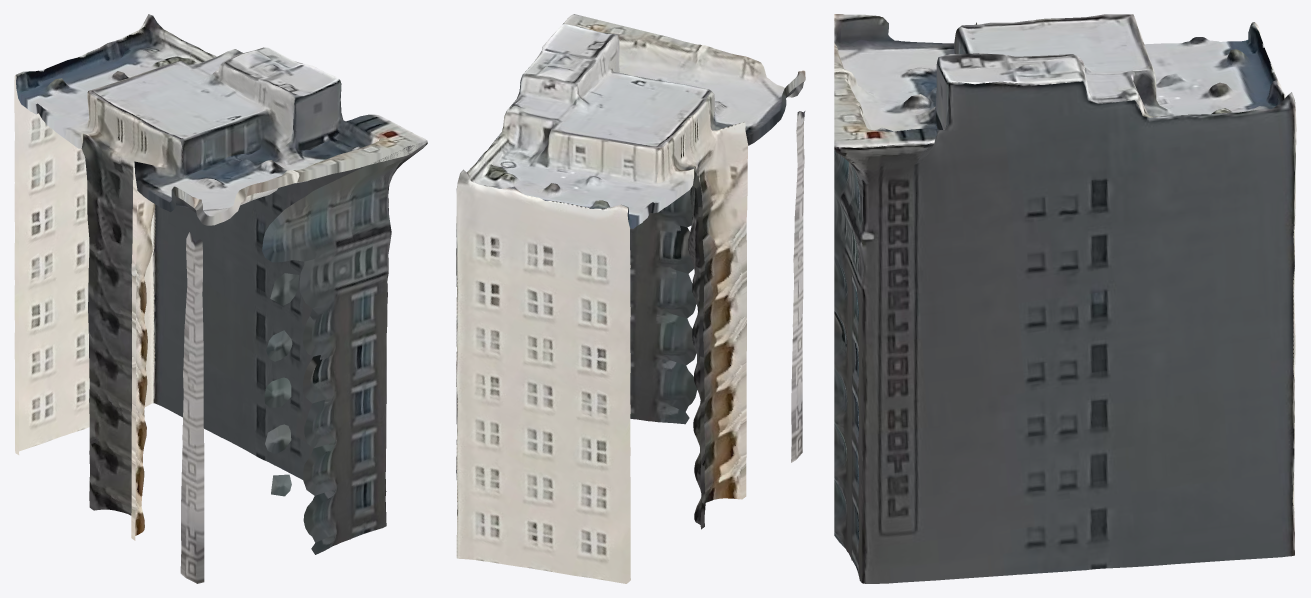
Rendered from z20-167746-405245-h1-yup-uvflip-v3-world.glb.
3 renders of one model, left to right at view 1: azimuth 30°, elevation 25°; view 2: azimuth 150°, elevation 25°; view 3: azimuth 270°, elevation 25°, orthographic. The views are drawn at different scales.
Bounding box in the file's own units: 16.12 × 27.6 × 23.32.
1 material, 1 textured.
